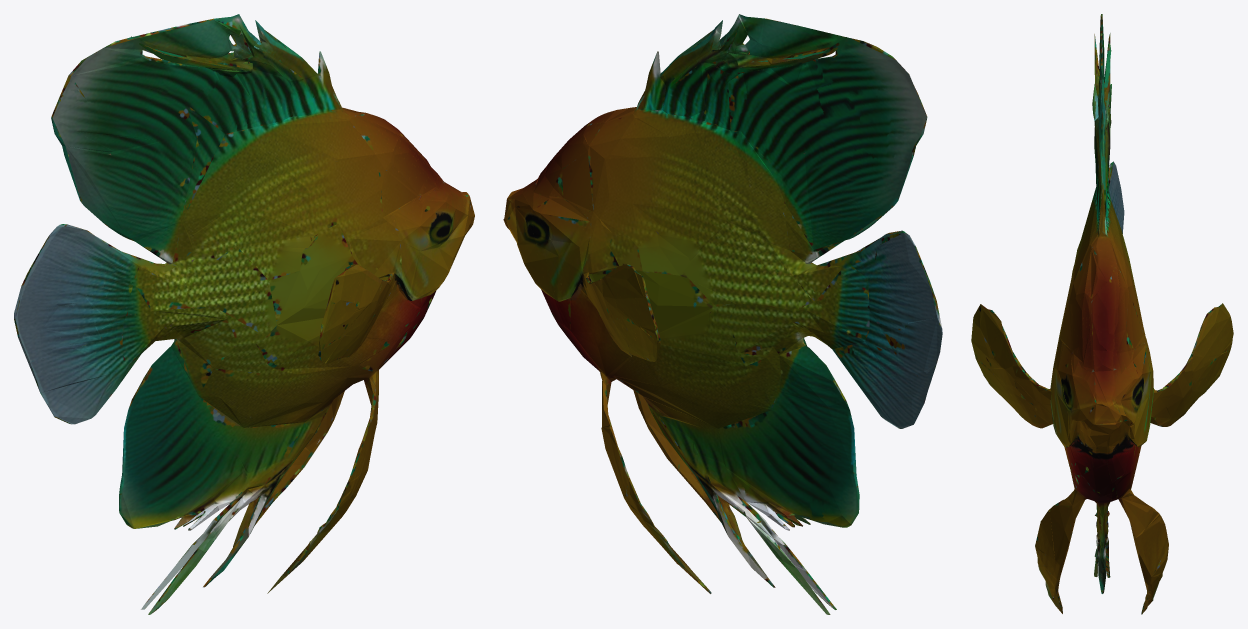
The model's file is fish_0103_smpl23_resized.glb.
3 views of the same model, side by side, from view 1: azimuth 30°, elevation 25°; view 2: azimuth 150°, elevation 25°; view 3: azimuth 270°, elevation 25° (orthographic). The views are drawn at different scales.
Visible parts, largest first — view 1: world; view 2: world; view 3: world.
Part boxes in pixels (<box>): world: <box>14,14,474,614</box>; world: <box>503,14,942,614</box>; world: <box>971,14,1233,614</box>.
Size of the model in its own units: 1.6 by 1.99 by 0.8696.
Materials: 1 (1 with a texture image).
